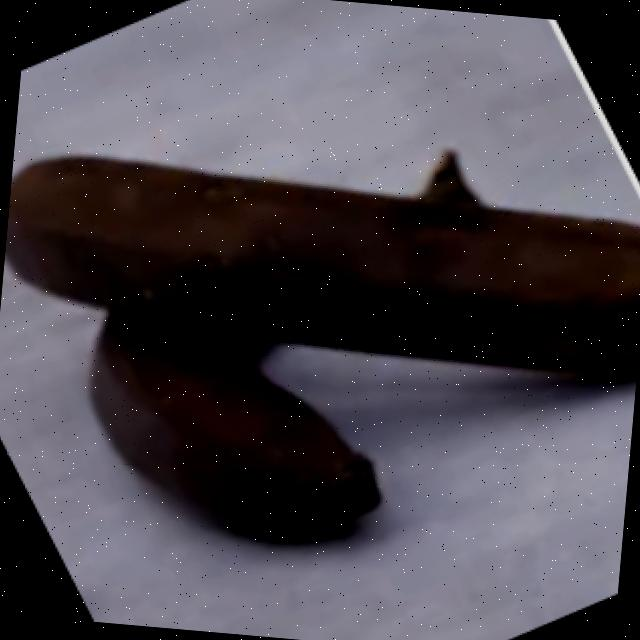Rotten: (0, 83, 640, 406)
